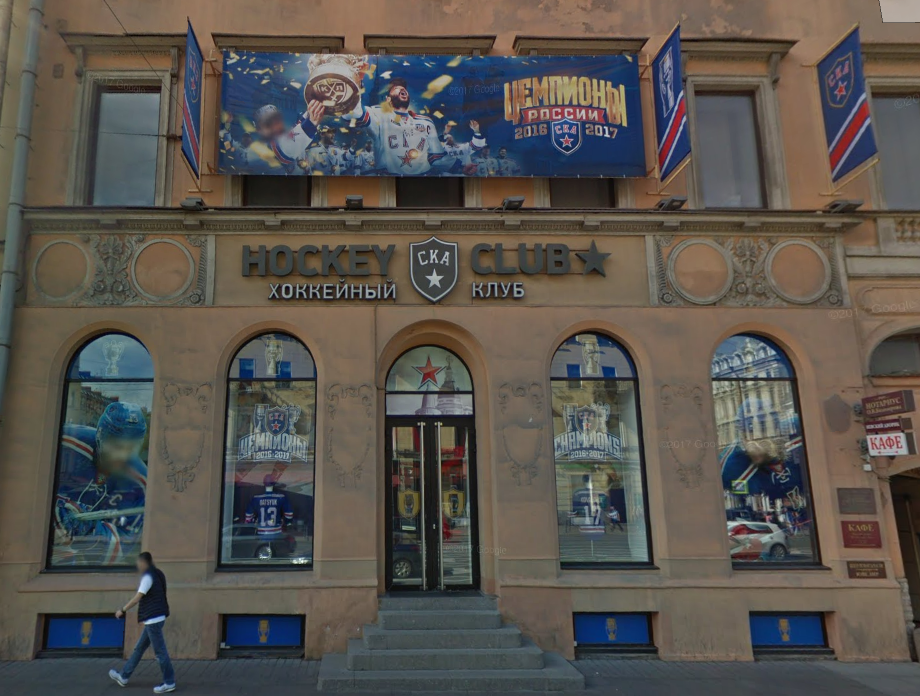cantilever: (795, 20, 880, 202), (170, 9, 221, 200), (642, 25, 693, 203), (848, 382, 920, 469)
door: (379, 416, 475, 592)
signboard: (221, 44, 649, 177), (235, 235, 617, 313)
window: (714, 327, 814, 563), (60, 328, 159, 564), (550, 327, 644, 563), (228, 329, 319, 570), (690, 85, 771, 210), (96, 84, 163, 206), (378, 339, 475, 414)
